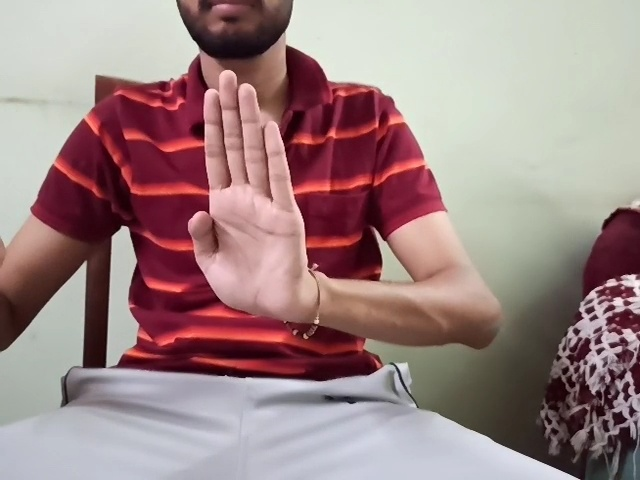B: (187, 68, 308, 321)
